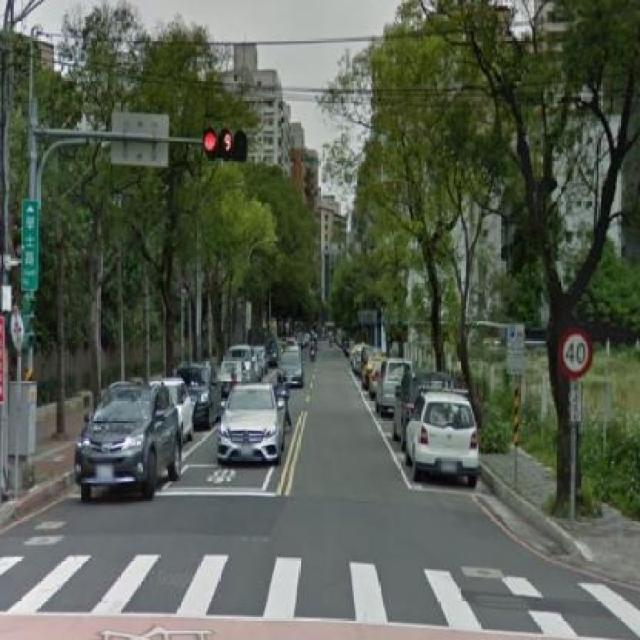forb_speed_over_40: (559, 330, 596, 378)
